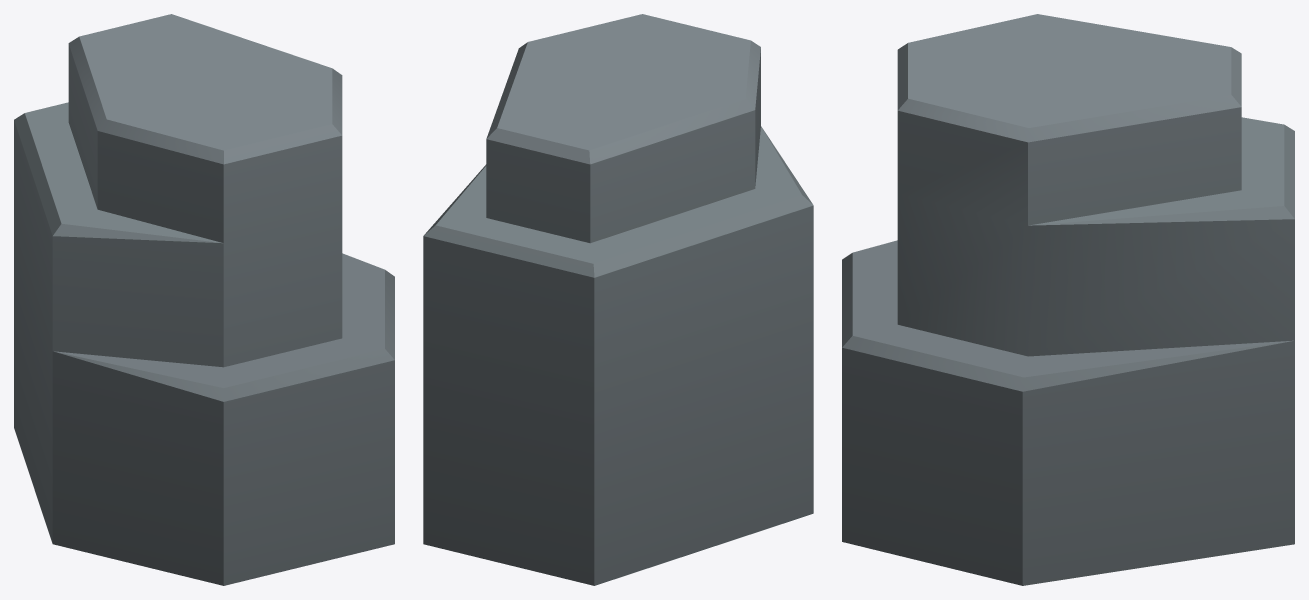
The model's file is Rock_1_E.glb.
3 renders of one model, left to right at view 1: azimuth 30°, elevation 25°; view 2: azimuth 150°, elevation 25°; view 3: azimuth 270°, elevation 25°, orthographic. The views are drawn at different scales.
Parts seen in each view (by area): view 1: Rock_1_E_Color1; view 2: Rock_1_E_Color1; view 3: Rock_1_E_Color1.
Boxes of the visible parts, left/top/right/bottom form: Rock_1_E_Color1: left=14, top=14, right=394, bottom=585; Rock_1_E_Color1: left=423, top=14, right=813, bottom=585; Rock_1_E_Color1: left=842, top=14, right=1294, bottom=585.
Size of the model in its own units: 1 by 1.13 by 1.09.
1 material, 1 textured.
